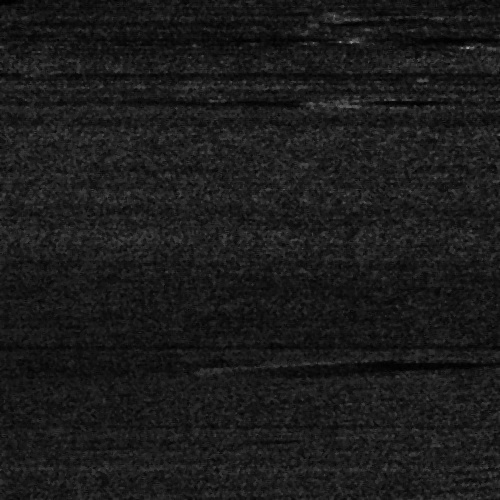object: (329, 33, 412, 40), (296, 97, 369, 102), (257, 360, 288, 367)
shadow: (371, 33, 441, 40), (333, 97, 401, 102), (273, 360, 297, 367)
